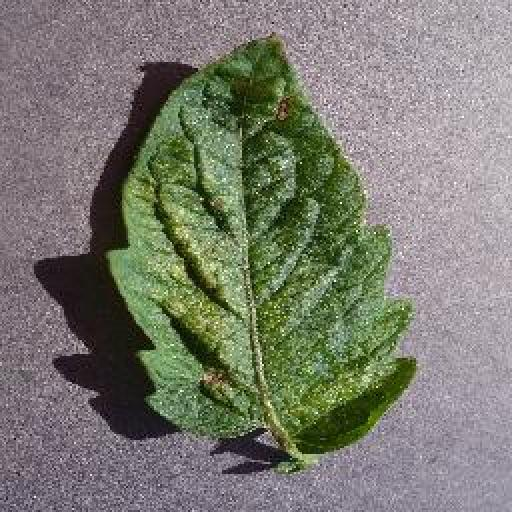Spider Mites: (107, 35, 420, 453)
